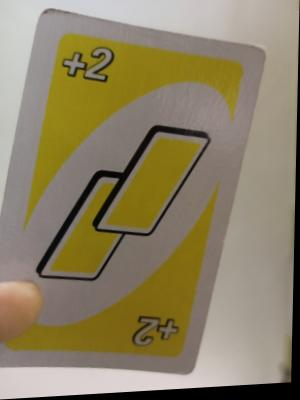-2: (49, 43, 139, 101), (120, 304, 190, 353)
yellow: (33, 116, 212, 294)
